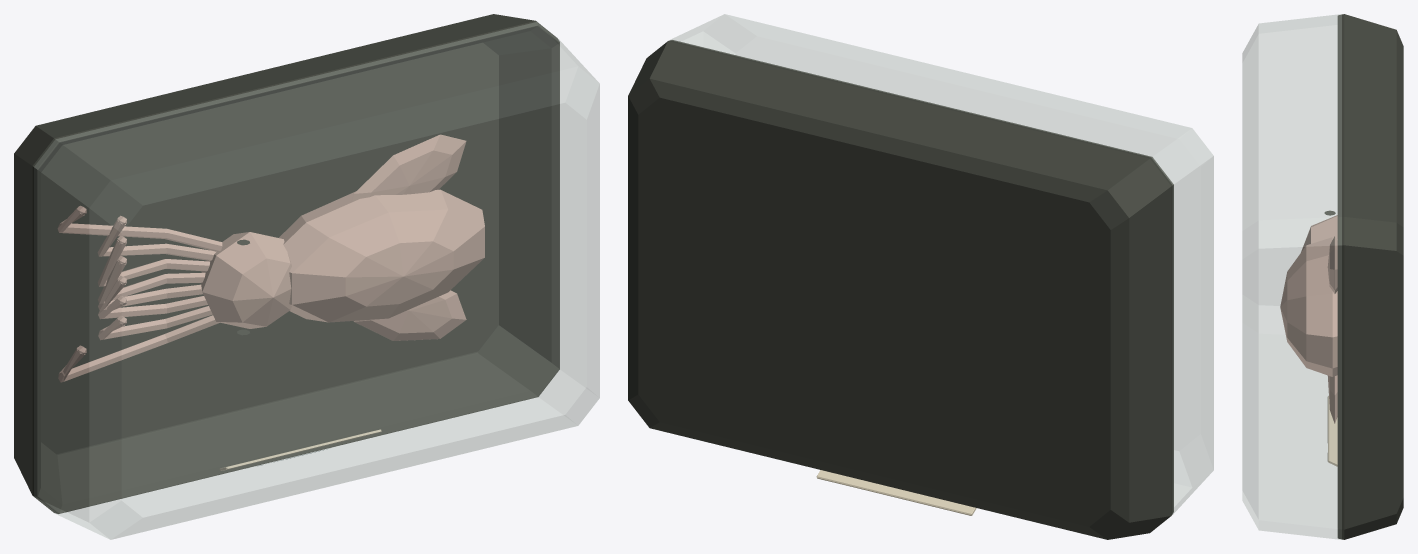
File: squid.glb
3 renders of one model, left to right at view 1: azimuth 30°, elevation 25°; view 2: azimuth 150°, elevation 25°; view 3: azimuth 270°, elevation 25°, orthographic. The views are drawn at different scales.
Parts seen in each view (by area): view 1: squid; view 2: squid; view 3: squid.
Part boxes in pixels (box(x1,y1,x2,y2)): squid: box(14, 14, 599, 539); squid: box(628, 14, 1213, 539); squid: box(1242, 14, 1403, 539).
Bounding box in the file's own units: 0.22 × 0.1553 × 0.068.
